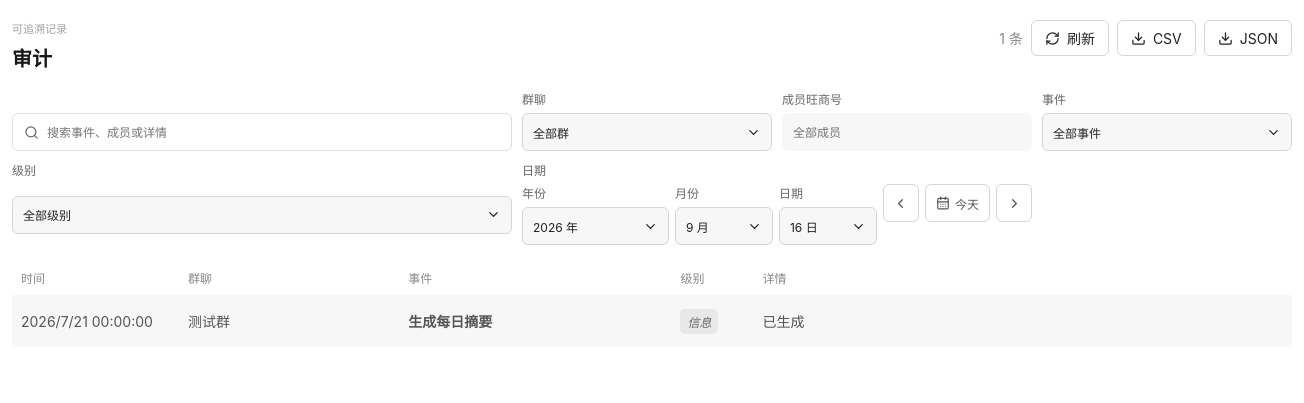
Scenario: production pages retain scoped cached data › keeps audit rows visible when a refresh goes offline
The width and height of the screenshot is (1304, 403).
Step 1. Click the button "刷新" → point(1070, 38), box [1031, 20, 1109, 56]
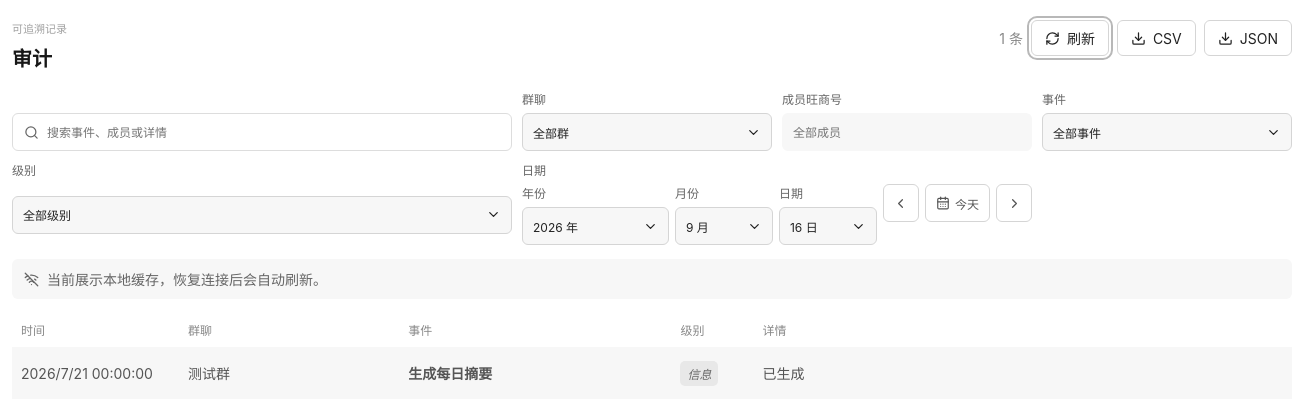
Expected: the text "生成每日摘要" is shown, [408, 365, 492, 382]
Expected: the text "当前展示本地缓存，恢复连接后会自动刷新。" is shown, [12, 259, 1292, 299]
